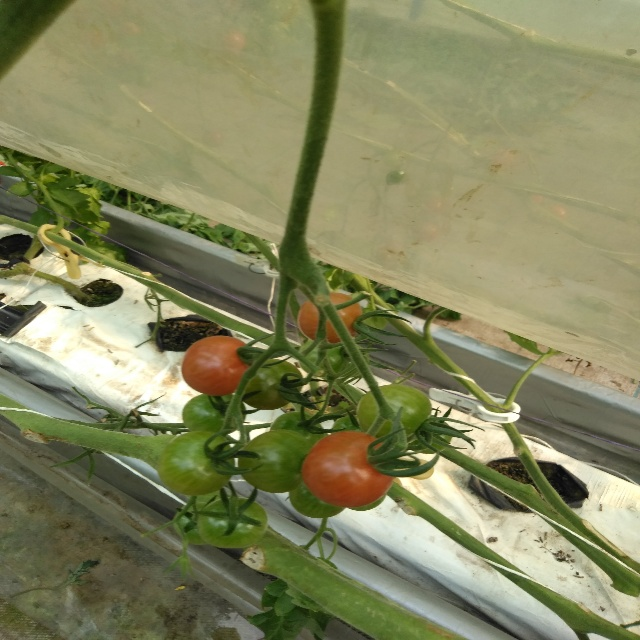l_fully_ripened: (302, 431, 394, 507), (181, 335, 252, 396)
l_green: (158, 430, 237, 496), (237, 429, 313, 493), (356, 384, 433, 446), (196, 497, 268, 549), (234, 359, 303, 411), (182, 394, 246, 435), (269, 411, 325, 446), (403, 414, 452, 454), (290, 486, 347, 519), (321, 341, 369, 378), (172, 503, 211, 546), (299, 338, 335, 377), (329, 415, 366, 435)
l_half_ripened: (296, 292, 364, 345)
